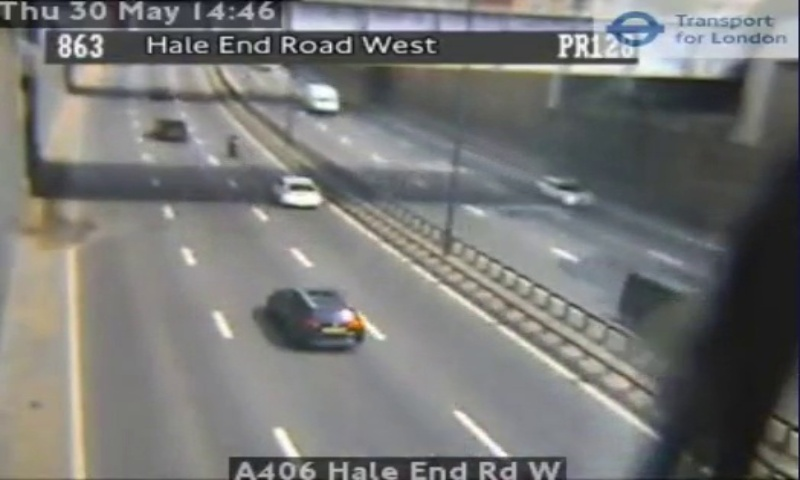car: (268, 288, 361, 348), (273, 176, 320, 205)
